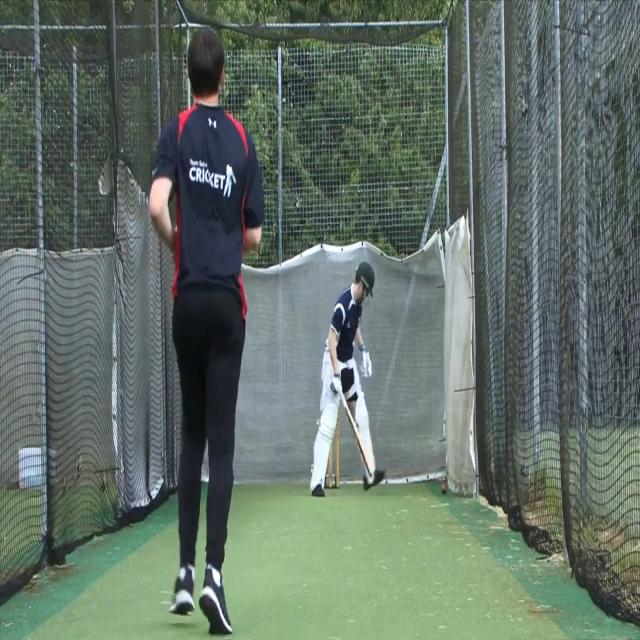batsman: (308, 258, 386, 500)
